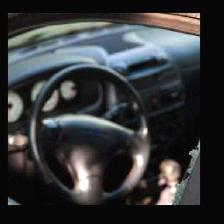glass_shatter: (41, 24, 199, 203)
